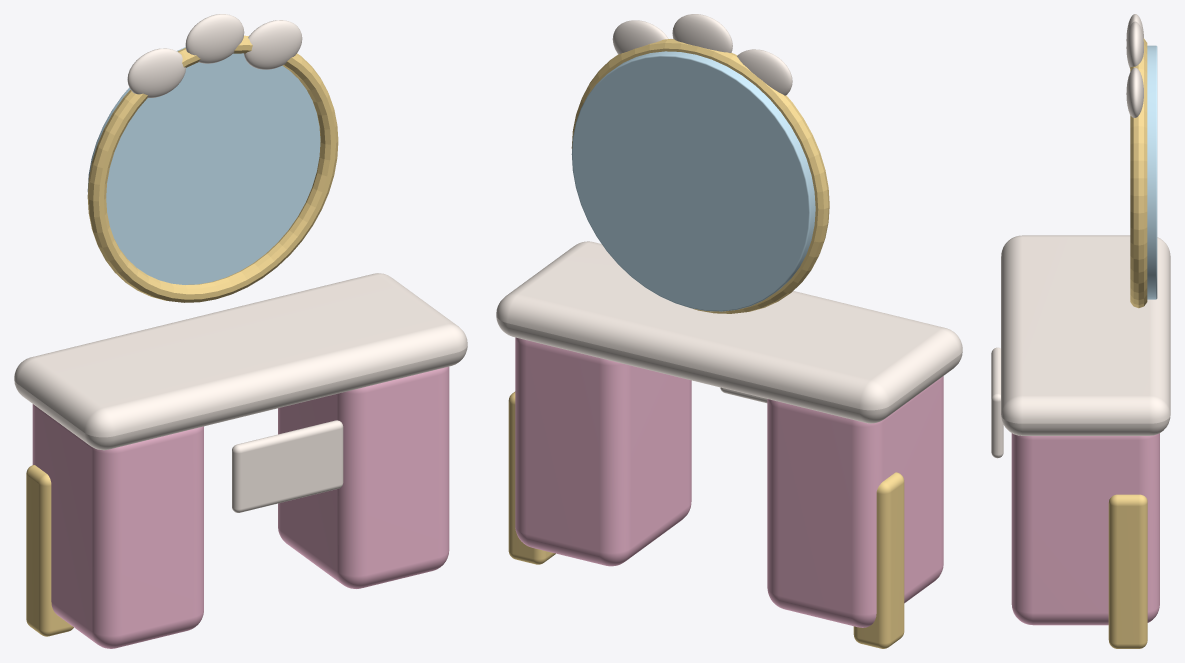
File: 云朵粉色梳妆台.fbx
3 views of the same model, side by side, from view 1: azimuth 30°, elevation 25°; view 2: azimuth 150°, elevation 25°; view 3: azimuth 270°, elevation 25° (orthographic). The views are drawn at different scales.
Parts seen in each view (by area): view 1: 云朵粉色梳妆台_桌面, 云朵粉色梳妆台_圆镜, 云朵粉色梳妆台_左柜, 云朵粉色梳妆台_右柜, 云朵粉色梳妆台_镜框, 云朵粉色梳妆台_中抽屉, 云朵粉色梳妆台_圆脚, 云朵粉色梳妆台_镜顶云朵, 云朵粉色梳妆台_镜顶云朵.001, 云朵粉色梳妆台_镜顶云朵.002; view 2: 云朵粉色梳妆台_圆镜, 云朵粉色梳妆台_桌面, 云朵粉色梳妆台_右柜, 云朵粉色梳妆台_左柜, 云朵粉色梳妆台_镜框, 云朵粉色梳妆台_圆脚, 云朵粉色梳妆台_圆脚.001, 云朵粉色梳妆台_镜顶云朵.001, 云朵粉色梳妆台_镜顶云朵, 云朵粉色梳妆台_镜顶云朵.002; view 3: 云朵粉色梳妆台_桌面, 云朵粉色梳妆台_右柜, 云朵粉色梳妆台_圆脚.001, 云朵粉色梳妆台_镜框, 云朵粉色梳妆台_圆镜, 云朵粉色梳妆台_中抽屉, 云朵粉色梳妆台_镜顶云朵.002, 云朵粉色梳妆台_镜顶云朵.001.
Part boxes in pixels (box(x1,y1,x2,y2)): 云朵粉色梳妆台_桌面: box(14, 273, 467, 450); 云朵粉色梳妆台_圆镜: box(87, 47, 320, 284); 云朵粉色梳妆台_左柜: box(32, 404, 203, 648); 云朵粉色梳妆台_右柜: box(278, 366, 449, 588); 云朵粉色梳妆台_镜框: box(87, 35, 338, 302); 云朵粉色梳妆台_中抽屉: box(232, 420, 343, 512); 云朵粉色梳妆台_圆脚: box(26, 465, 73, 636); 云朵粉色梳妆台_镜顶云朵: box(127, 48, 185, 97); 云朵粉色梳妆台_镜顶云朵.001: box(185, 14, 244, 63); 云朵粉色梳妆台_镜顶云朵.002: box(244, 20, 302, 69); 云朵粉色梳妆台_圆镜: box(571, 51, 815, 311); 云朵粉色梳妆台_桌面: box(496, 241, 962, 423); 云朵粉色梳妆台_右柜: box(515, 337, 691, 566); 云朵粉色梳妆台_左柜: box(767, 376, 943, 627); 云朵粉色梳妆台_镜框: box(571, 39, 829, 313); 云朵粉色梳妆台_圆脚: box(853, 472, 904, 648); 云朵粉色梳妆台_圆脚.001: box(508, 391, 555, 564); 云朵粉色梳妆台_镜顶云朵.001: box(672, 14, 732, 52); 云朵粉色梳妆台_镜顶云朵: box(737, 49, 792, 95); 云朵粉色梳妆台_镜顶云朵.002: box(612, 20, 668, 54); 云朵粉色梳妆台_桌面: box(1001, 235, 1170, 435); 云朵粉色梳妆台_右柜: box(1011, 433, 1159, 625); 云朵粉色梳妆台_圆脚.001: box(1108, 494, 1147, 648); 云朵粉色梳妆台_镜框: box(1130, 38, 1147, 308); 云朵粉色梳妆台_圆镜: box(1147, 45, 1157, 299); 云朵粉色梳妆台_中抽屉: box(991, 347, 1003, 458); 云朵粉色梳妆台_镜顶云朵.002: box(1126, 67, 1143, 117); 云朵粉色梳妆台_镜顶云朵.001: box(1126, 21, 1143, 68).
Bounding box in the file's own units: 118 × 169 × 50.75.
